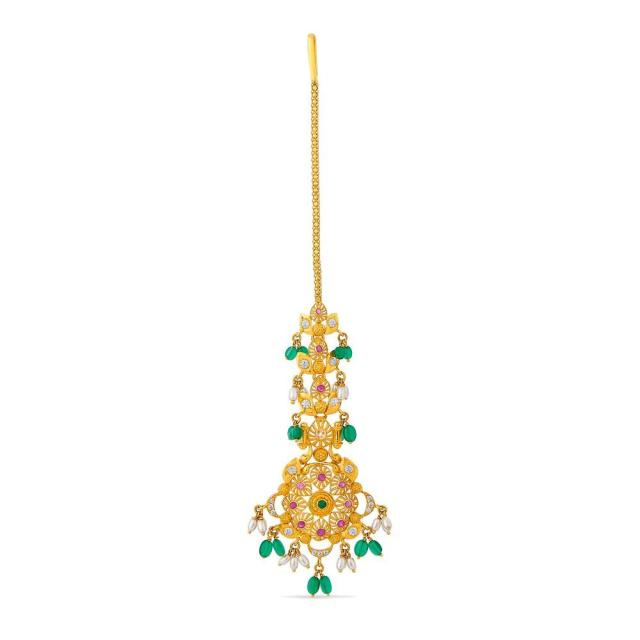missing gem: (315, 428, 327, 440)
